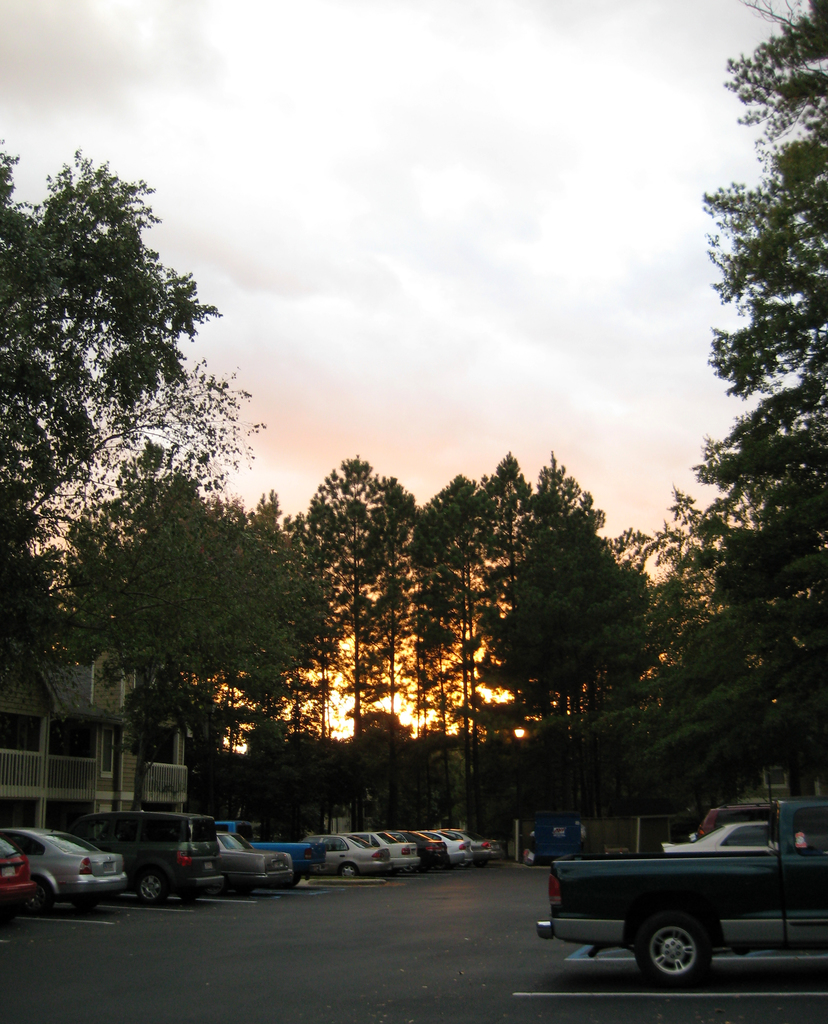mobil: (528, 810, 825, 979), (61, 813, 225, 893), (1, 827, 125, 904)
